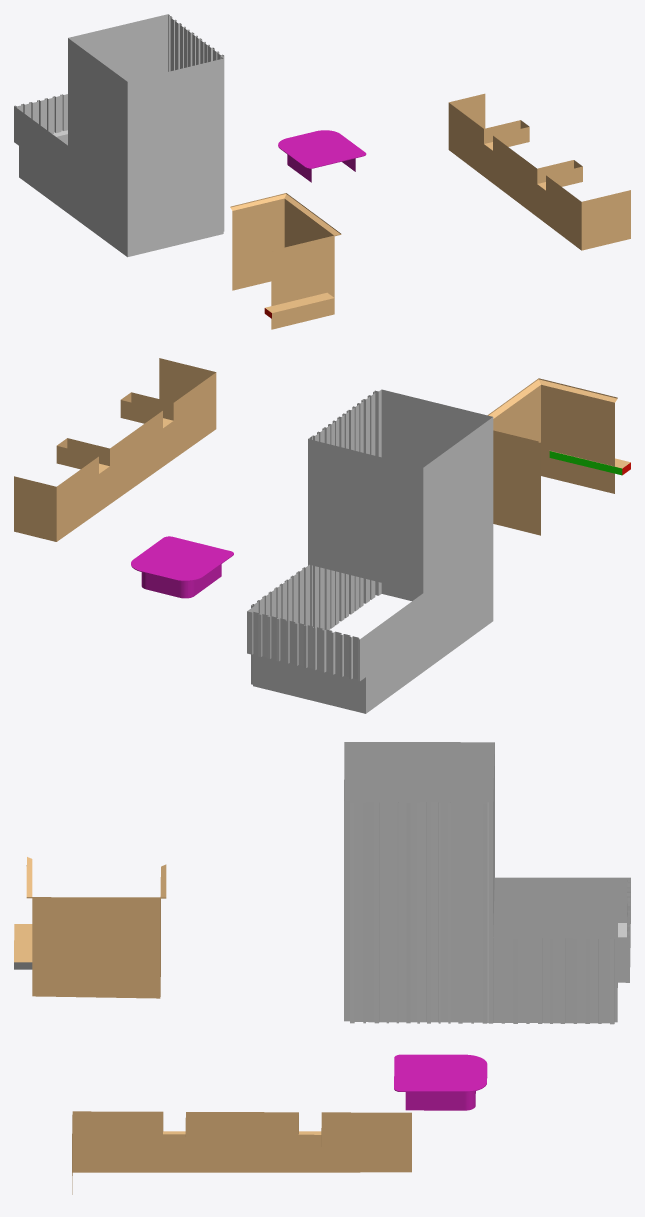
Rendered from bj_xindongli_outdoor.FBX.
3 renders of one model, top to bottom at view 1: azimuth 30°, elevation 25°; view 2: azimuth 150°, elevation 25°; view 3: azimuth 270°, elevation 25°, orthographic. The views are drawn at different scales.
Parts seen in each view (by area): view 1: bj_xdl_01, bj_xdl_03, bj_xdl_02, bj_xdl_04; view 2: bj_xdl_01, bj_xdl_03, bj_xdl_02, bj_xdl_04; view 3: bj_xdl_01, bj_xdl_03, bj_xdl_02, bj_xdl_04.
Boxes of the visible parts, x1=… form: bj_xdl_01: x1=14, y1=14, x2=224, y2=257; bj_xdl_03: x1=448, y1=93, x2=630, y2=250; bj_xdl_02: x1=230, y1=193, x2=341, y2=329; bj_xdl_04: x1=278, y1=130, x2=366, y2=182; bj_xdl_01: x1=247, y1=389, x2=493, y2=713; bj_xdl_03: x1=14, y1=358, x2=216, y2=541; bj_xdl_02: x1=487, y1=378, x2=630, y2=535; bj_xdl_04: x1=131, y1=536, x2=233, y2=598; bj_xdl_01: x1=344, y1=742, x2=630, y2=1024; bj_xdl_03: x1=72, y1=1111, x2=411, y2=1194; bj_xdl_02: x1=14, y1=857, x2=166, y2=998; bj_xdl_04: x1=394, y1=1054, x2=487, y2=1110.
Bounding box in the file's own units: 75.84 × 32.19 × 81.65.
